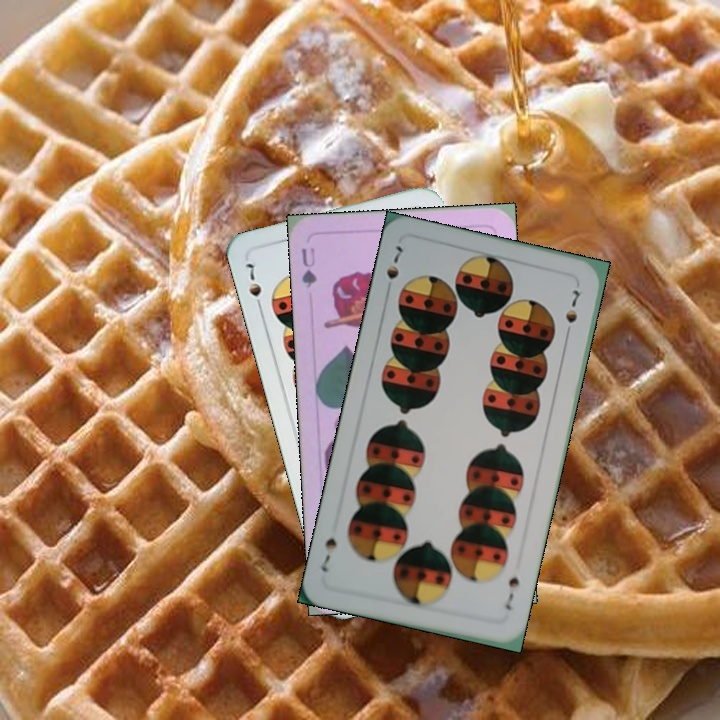GU: (297, 243, 320, 290)
S7: (381, 241, 405, 298), (242, 258, 265, 315), (501, 572, 522, 613)
